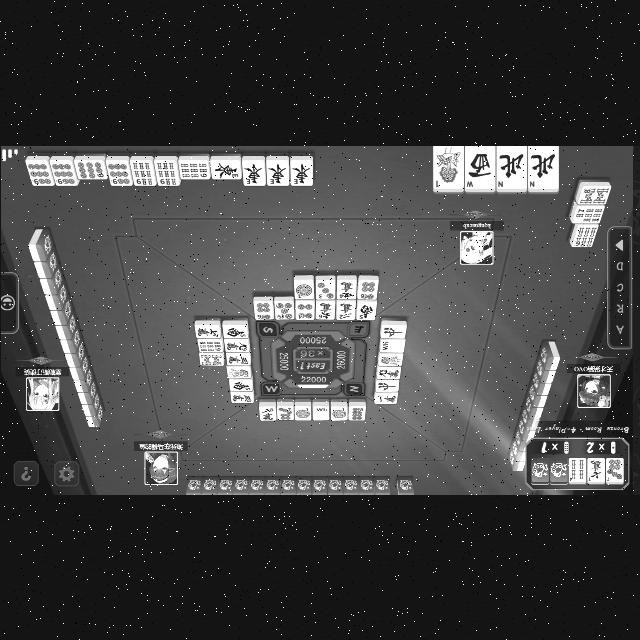1m: (374, 395, 398, 405)
1p: (294, 282, 312, 298), (294, 406, 310, 422), (332, 406, 346, 420)
1s: (433, 147, 461, 187), (379, 355, 401, 365), (227, 367, 249, 377)
2m: (337, 302, 355, 320)
3m: (226, 354, 248, 364), (230, 393, 252, 402)
3p: (316, 282, 332, 298)
4m: (338, 282, 354, 300)
4p: (296, 302, 312, 320)
4s: (567, 460, 583, 482)
5p: (275, 302, 291, 318)
6m: (316, 302, 332, 320)
6p: (359, 281, 376, 299), (256, 302, 270, 320)
6s: (574, 225, 596, 248)
7m: (587, 460, 603, 482), (195, 326, 218, 338)
7p: (606, 460, 622, 482), (276, 406, 292, 420)
7s: (575, 206, 601, 222)
8m: (258, 406, 274, 420)
8p: (350, 406, 364, 422)
8s: (579, 185, 609, 202), (198, 354, 222, 366)
9m: (226, 341, 248, 352), (378, 368, 400, 378)
9p: (106, 163, 130, 184), (76, 160, 104, 178), (26, 163, 48, 184), (54, 164, 74, 186)
9s: (154, 162, 178, 185), (130, 162, 152, 185), (179, 162, 207, 178), (199, 341, 221, 351)
chun: (382, 327, 404, 337), (376, 381, 398, 391)
haku: (380, 341, 402, 353), (313, 406, 327, 420)
nan: (356, 302, 374, 320), (224, 327, 246, 338), (230, 380, 250, 390)
pe: (528, 146, 558, 190), (498, 148, 524, 188)
sha: (466, 148, 492, 188)
tou: (266, 162, 288, 186), (211, 160, 239, 178), (242, 162, 264, 184), (292, 160, 310, 183)
